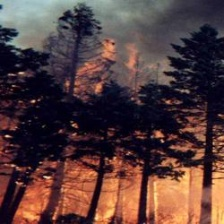fire: (142, 173, 221, 216), (64, 38, 119, 98), (94, 192, 119, 220)
smoke: (141, 4, 224, 37)
